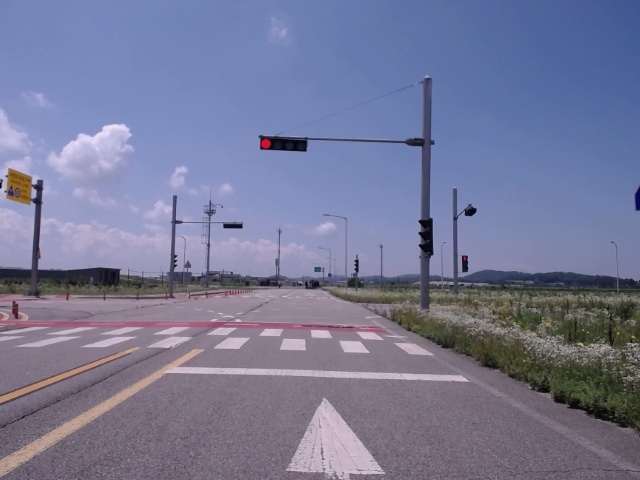red_4: (260, 137, 307, 152)
